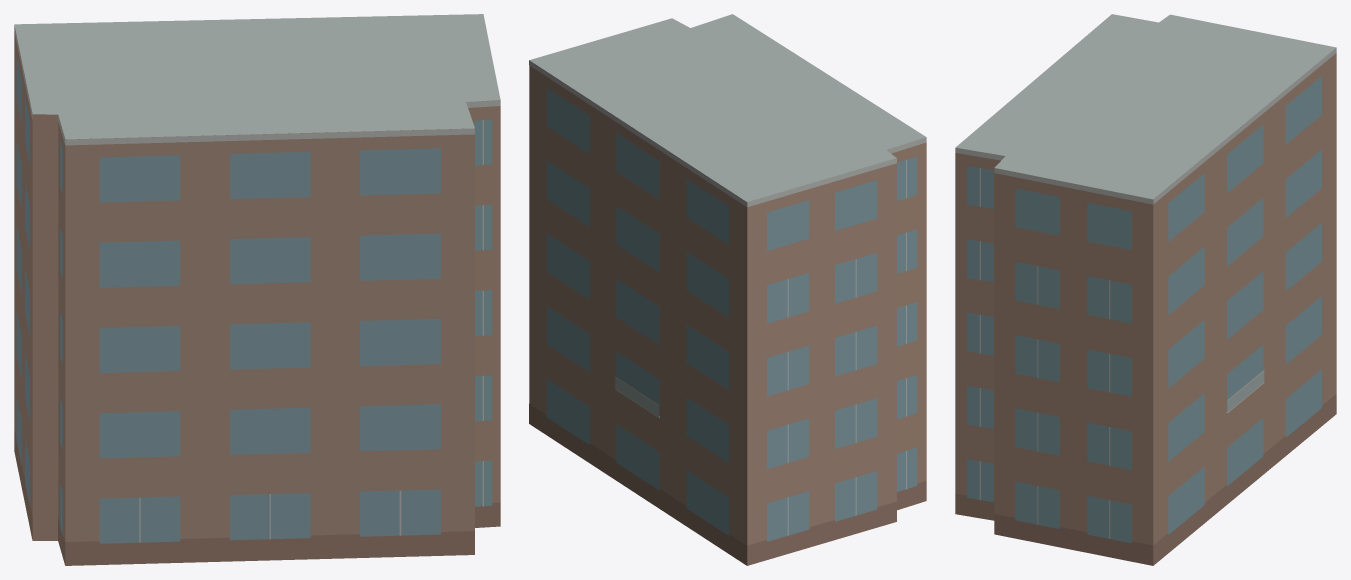
Rendered from survey-upis-32581410.glb.
3 views of the same model, side by side, from view 1: azimuth 30°, elevation 25°; view 2: azimuth 150°, elevation 25°; view 3: azimuth 270°, elevation 25° (orthographic). The views are drawn at different scales.
Visible parts, largest first — view 1: survey-upis-32581410.tmp; view 2: survey-upis-32581410.tmp; view 3: survey-upis-32581410.tmp.
Part boxes in pixels (box(x1,y1,x2,y2)): survey-upis-32581410.tmp: box(14, 14, 500, 565); survey-upis-32581410.tmp: box(529, 14, 926, 565); survey-upis-32581410.tmp: box(955, 14, 1336, 565).
Size of the model in its own units: 18.78 by 17.3 by 16.33.
